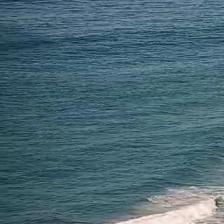surfer: (214, 199, 220, 207)
